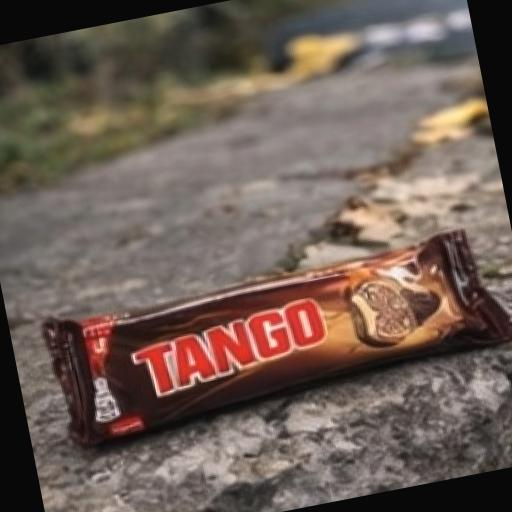tango: (32, 198, 512, 476)
